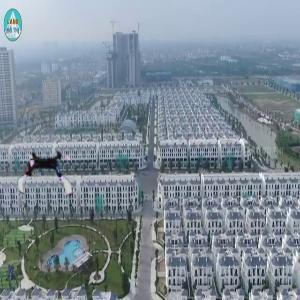drone: (14, 144, 77, 207)
